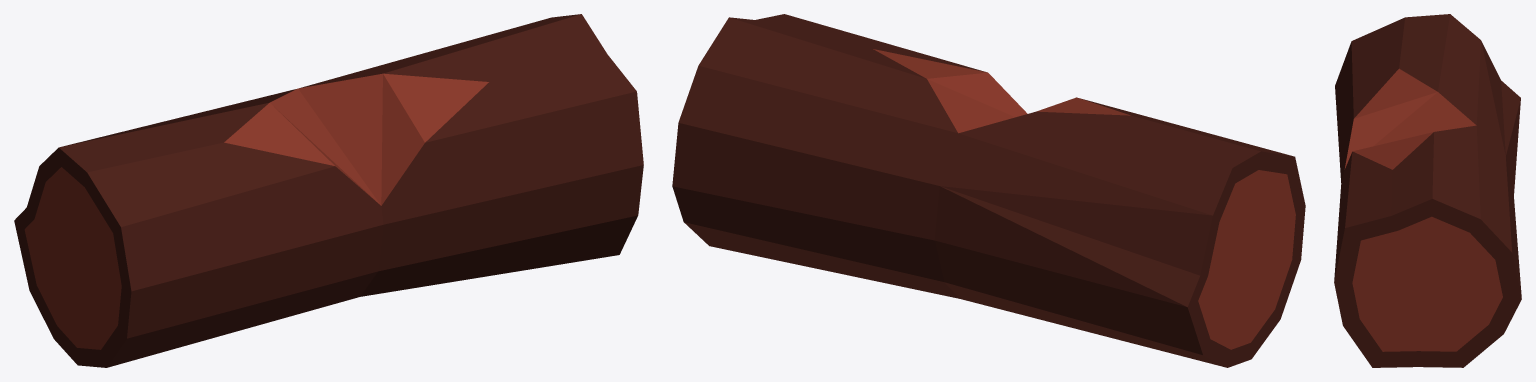
File: Log_9_Red.fbx
3 renders of one model, left to right at view 1: azimuth 30°, elevation 25°; view 2: azimuth 150°, elevation 25°; view 3: azimuth 270°, elevation 25°, orthographic. The views are drawn at different scales.
Visible parts, largest first — view 1: Log_9_Red; view 2: Log_9_Red; view 3: Log_9_Red.
Boxes of the visible parts, left/top/right/bottom form: Log_9_Red: left=14, top=14, right=643, bottom=367; Log_9_Red: left=672, top=14, right=1305, bottom=367; Log_9_Red: left=1334, top=14, right=1521, bottom=367.
Size of the model in its own units: 200 by 82.45 by 80.1.
